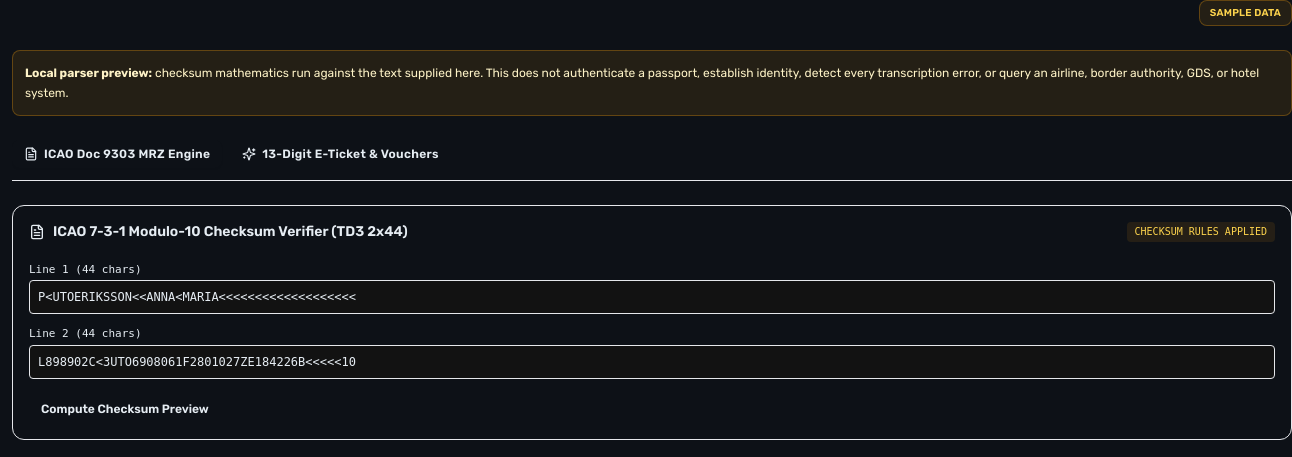
it: DocumentMRZPanel truth boundary › labels voucher identifiers as fixtures without provider synchronization
Click the button "13-Digit E-Ticket & Vouchers".
click(341, 154)  # box [230, 140, 451, 168]
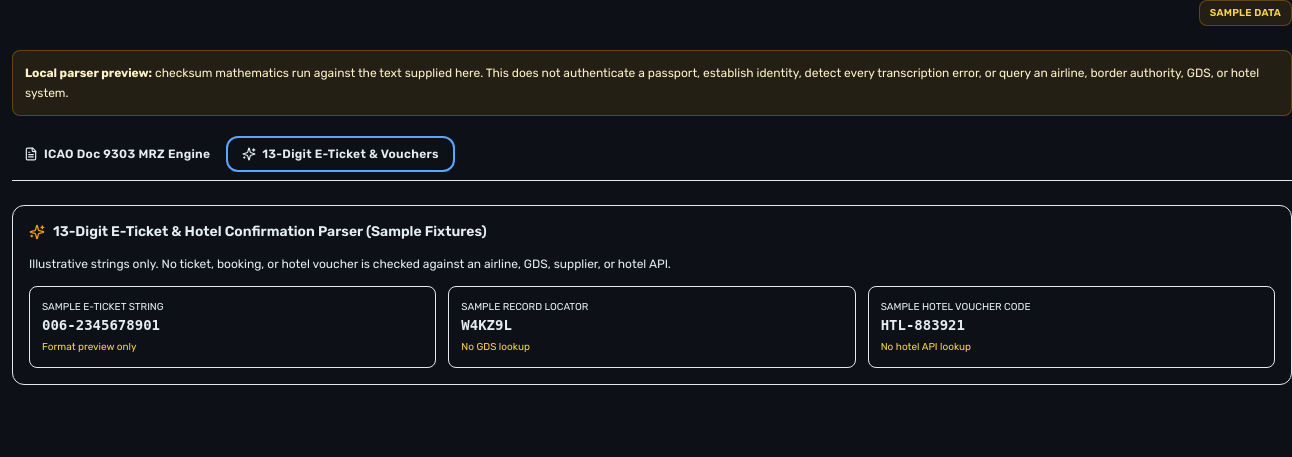
Result: the text with test id "voucher-preview-notice" shows "No ticket, booking, or hotel voucher is checked" at [29, 257, 671, 271]
Result: the text "Format preview only" is shown at [42, 341, 136, 353]
Result: the text "No GDS lookup" is shown at [461, 341, 530, 353]
